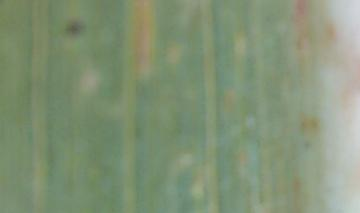tarspot: (64, 18, 85, 37)
